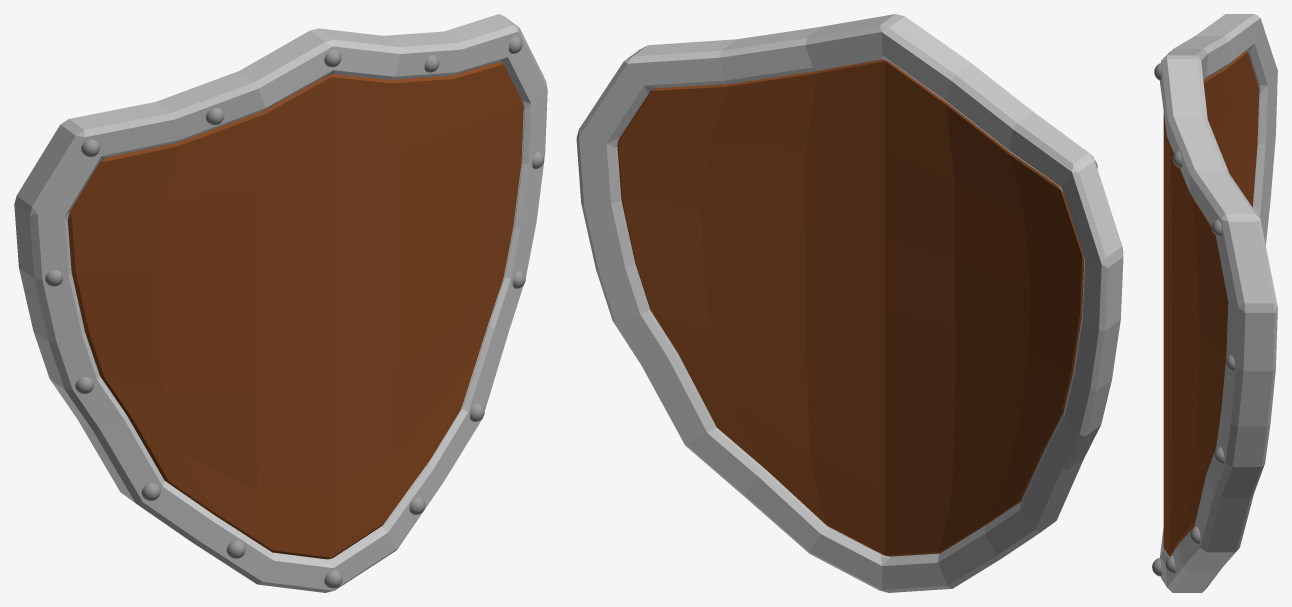
Rendered from shield.glb.
3 views of the same model, side by side, from view 1: azimuth 30°, elevation 25°; view 2: azimuth 150°, elevation 25°; view 3: azimuth 270°, elevation 25° (orthographic). The views are drawn at different scales.
Visible parts, largest first — view 1: 平面.001; view 2: 平面.001; view 3: 平面.001.
Part boxes in pixels (left/top/right/bottom): 平面.001: left=14, top=14, right=547, bottom=592; 平面.001: left=576, top=14, right=1123, bottom=592; 平面.001: left=1152, top=14, right=1277, bottom=592.
Size of the model in its own units: 2.39 by 2.43 by 0.5285.
